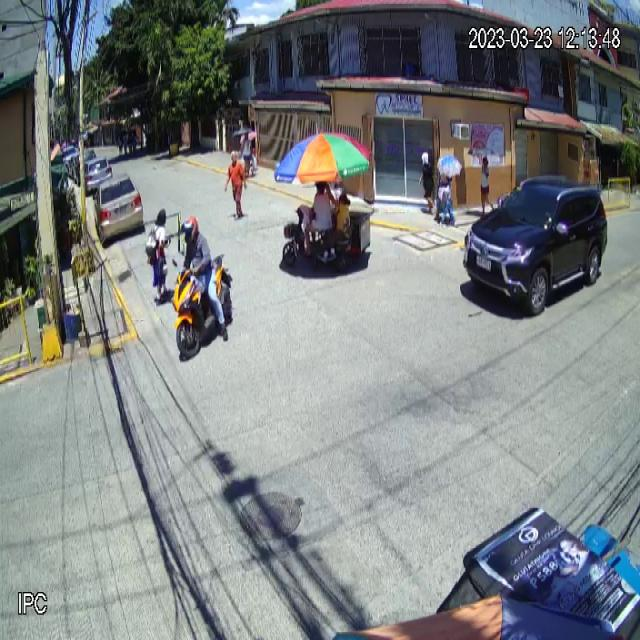Car: (462, 174, 608, 316)
Motorcycle: (172, 253, 233, 360)
